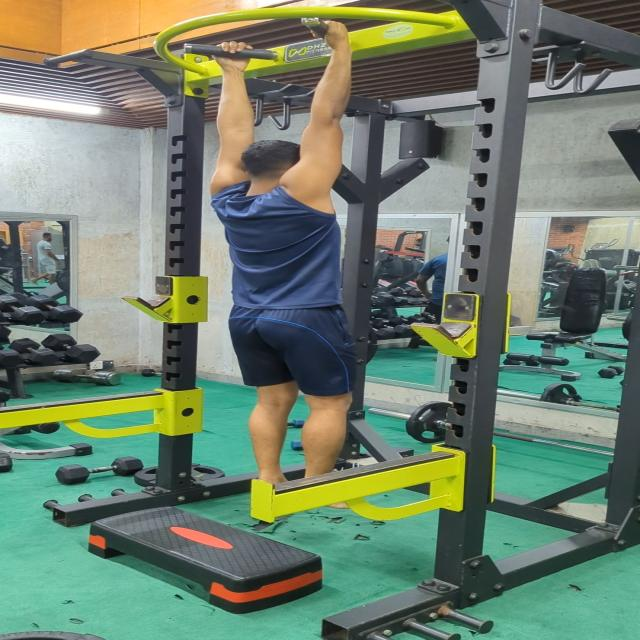Normal_PullUps: (196, 16, 367, 516)
